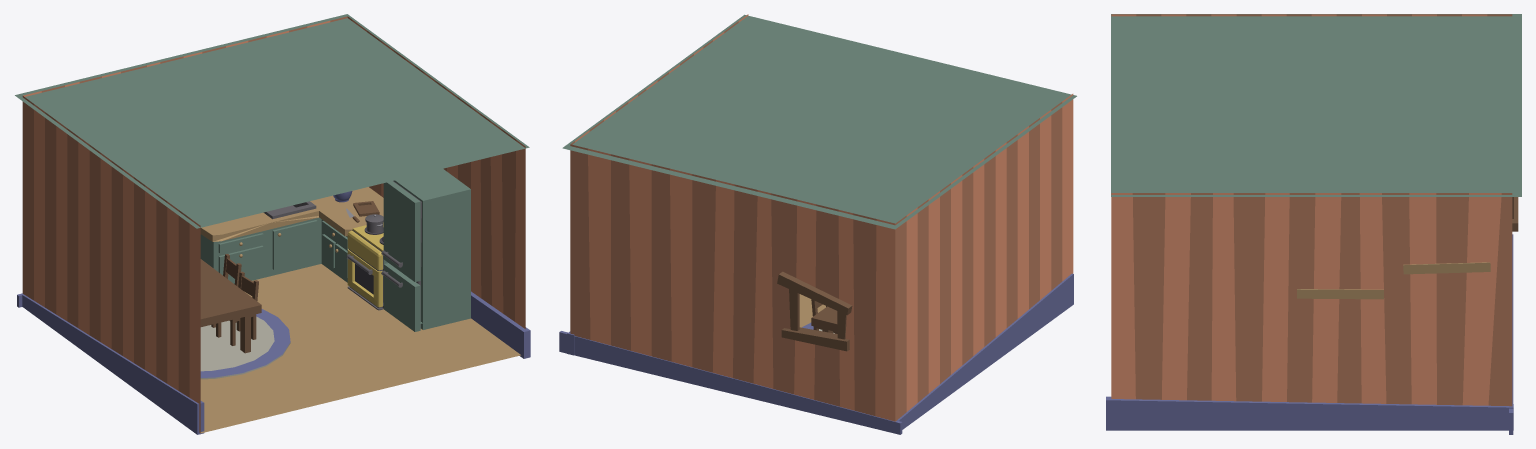
Rendered from Aunt_J_room.fbx.
3 renders of one model, left to right at view 1: azimuth 30°, elevation 25°; view 2: azimuth 150°, elevation 25°; view 3: azimuth 270°, elevation 25°, orthographic. The views are drawn at different scales.
Visible parts, largest first — view 1: polySurface21, polySurface20, pCube29, polySurface19, polySurface13, pCylinder27, pCube45, pCube46; view 2: polySurface20, polySurface21, polySurface13, polySurface18, pCube45; view 3: polySurface20, polySurface21, polySurface13, pCube31, pCube30.
Part boxes in pixels (left/top/right/bottom): polySurface21: left=15, top=14, right=529, bottom=228; polySurface20: left=22, top=16, right=525, bottom=432; pCube29: left=200, top=169, right=470, bottom=331; polySurface19: left=200, top=264, right=520, bottom=433; polySurface13: left=17, top=291, right=530, bottom=434; pCylinder27: left=200, top=309, right=290, bottom=379; pCube45: left=200, top=259, right=261, bottom=353; pCube46: left=216, top=271, right=258, bottom=345; polySurface20: left=570, top=14, right=1073, bottom=421; polySurface21: left=562, top=14, right=1076, bottom=229; polySurface13: left=559, top=273, right=1073, bottom=434; polySurface18: left=777, top=271, right=852, bottom=351; pCube45: left=811, top=306, right=837, bottom=333; polySurface20: left=1111, top=14, right=1512, bottom=406; polySurface21: left=1111, top=14, right=1521, bottom=196; polySurface13: left=1106, top=234, right=1513, bottom=434; pCube31: left=1403, top=262, right=1490, bottom=274; pCube30: left=1297, top=289, right=1383, bottom=299.
Bounding box in the file's own units: 14.55 × 8.57 × 13.64.
